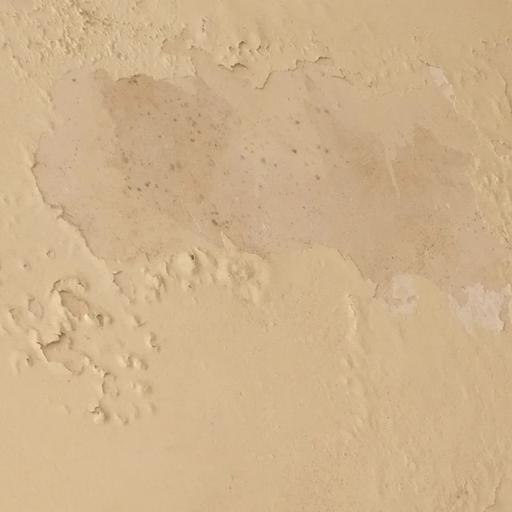peeling: (27, 42, 512, 334), (0, 240, 177, 430)
